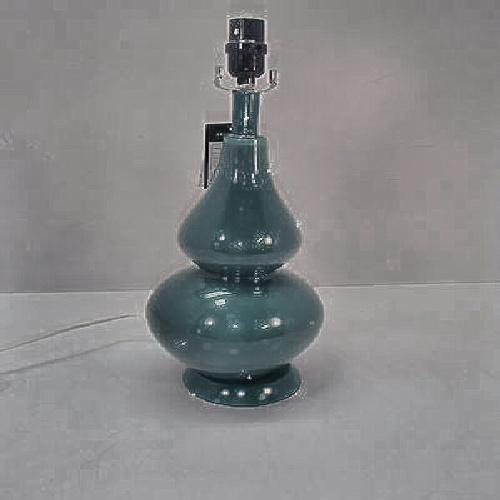lamp: (139, 16, 349, 423)
